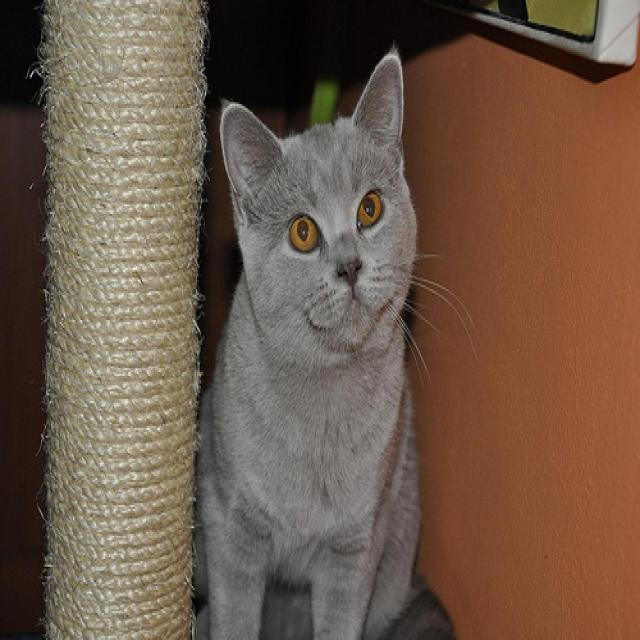British_Shorthair: (218, 50, 416, 351)
